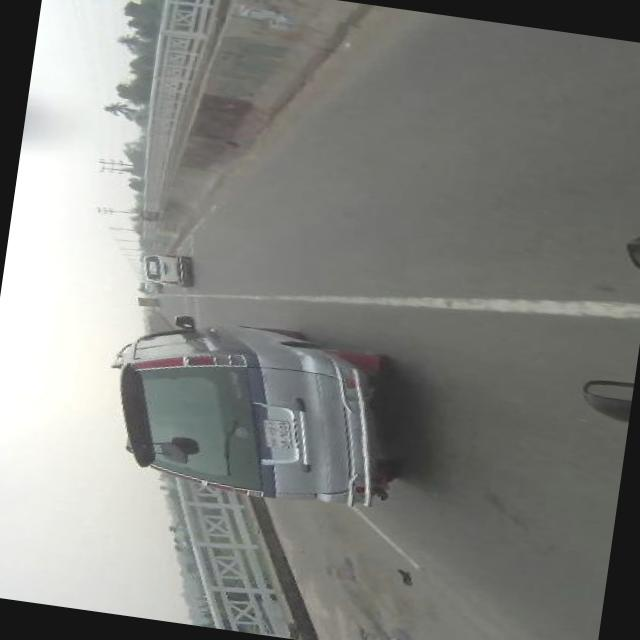car: (138, 250, 194, 288), (141, 280, 162, 294)
motorcycle: (140, 209, 158, 222)
truck: (101, 306, 408, 511), (136, 296, 160, 308)
